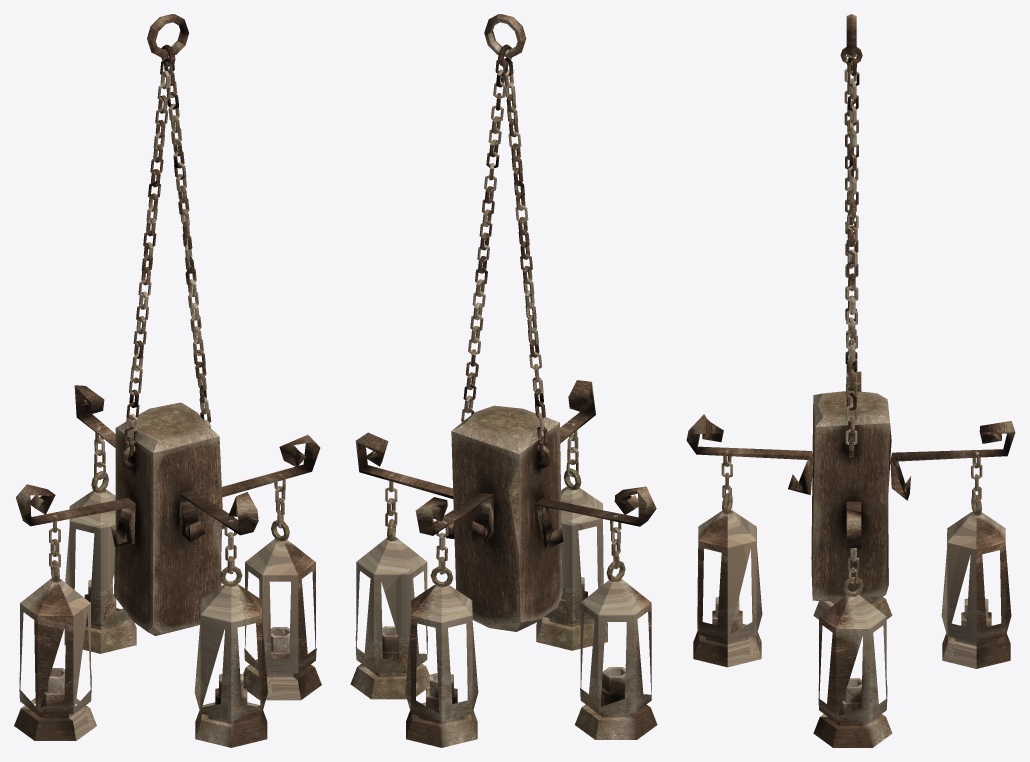
Rendered from lustre.glb.
3 views of the same model, side by side, from view 1: azimuth 30°, elevation 25°; view 2: azimuth 150°, elevation 25°; view 3: azimuth 270°, elevation 25° (orthographic). The views are drawn at different scales.
Visible parts, largest first — view 1: Lantern B chain, Lantern B Wood base; view 2: Lantern B chain, Lantern B Wood base; view 3: Lantern B chain, Lantern B Wood base.
Part boxes in pixels (x1,y1,x2,y2): Lantern B chain: [14, 14, 321, 747]; Lantern B Wood base: [114, 402, 222, 635]; Lantern B chain: [350, 14, 657, 747]; Lantern B Wood base: [451, 405, 562, 631]; Lantern B chain: [686, 14, 1015, 747]; Lantern B Wood base: [811, 390, 891, 601].
Size of the model in its own units: 0.6452 by 1.44 by 0.646.
2 materials, 2 textured.
